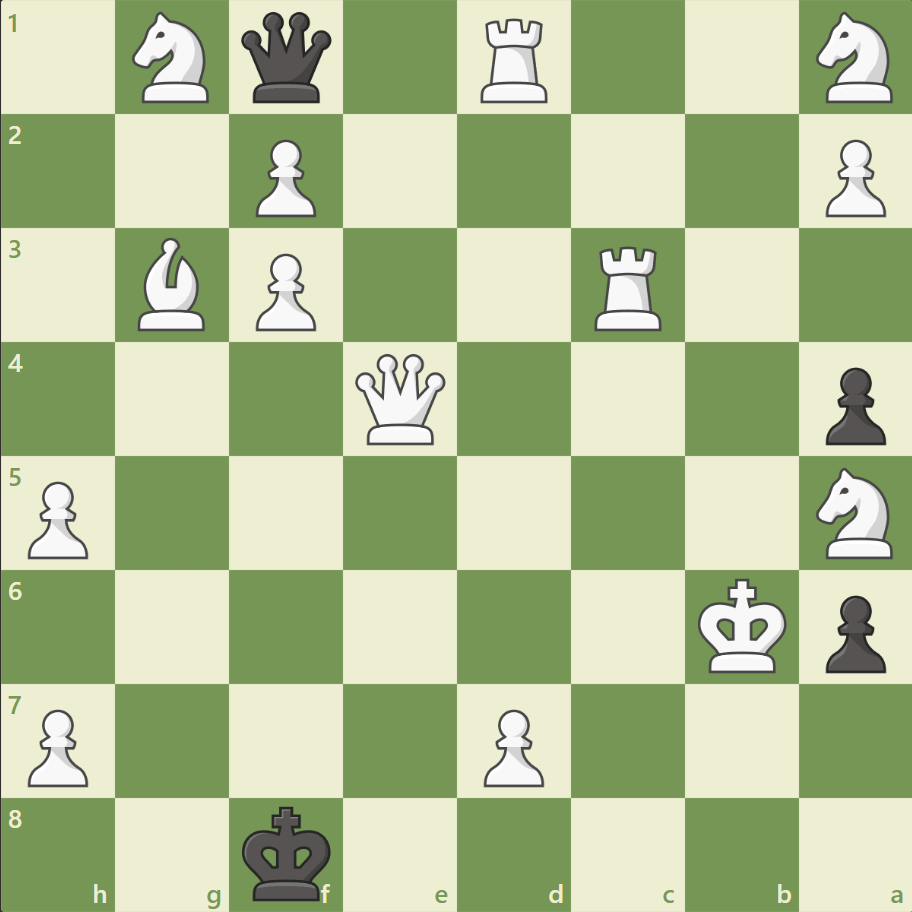B: (131, 233, 215, 336)
K: (692, 571, 792, 679)
N: (124, 7, 222, 110), (806, 461, 903, 564), (806, 7, 903, 110)
P: (474, 700, 549, 791), (20, 700, 95, 791), (20, 473, 95, 564), (247, 246, 322, 337), (247, 132, 322, 223), (815, 132, 889, 223)
Q: (351, 349, 450, 449)
R: (587, 239, 670, 336), (473, 12, 556, 109)
k: (238, 798, 338, 906)
p: (815, 586, 889, 677), (815, 359, 889, 450)
q: (237, 9, 336, 108)
